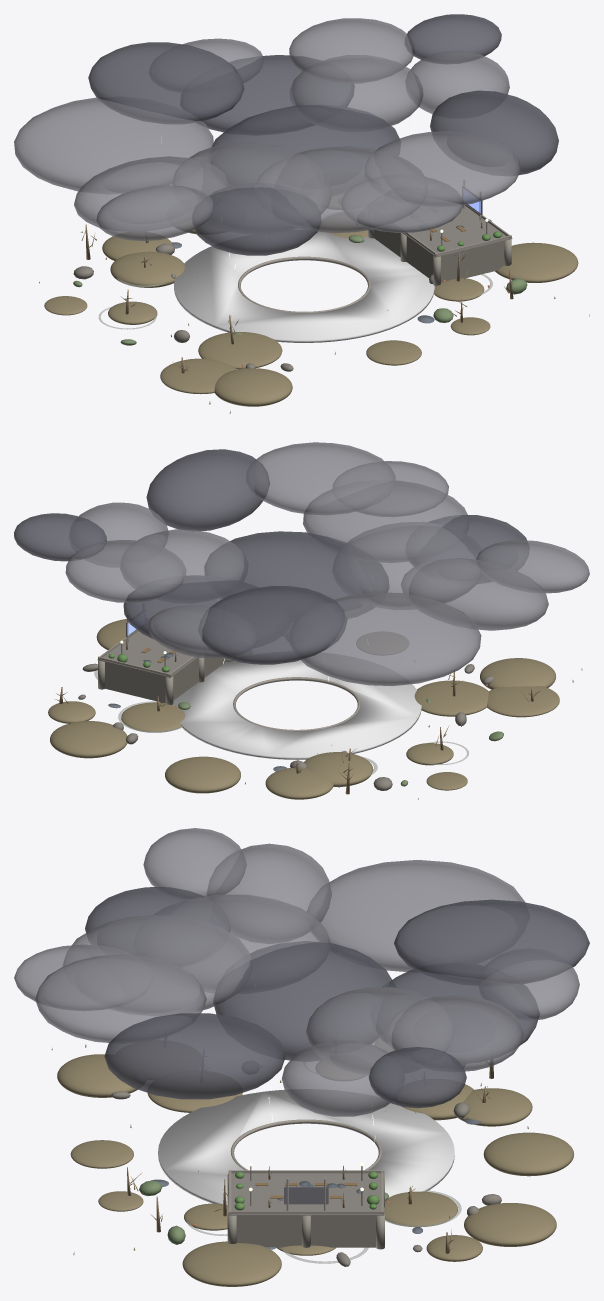
File: Environment_Rainy.glb
The picture shows the model from 3 angles, top to bottom: view 1: azimuth 30°, elevation 25°; view 2: azimuth 150°, elevation 25°; view 3: azimuth 270°, elevation 25°; orthographic projection. The views are drawn at different scales.
Parts seen in each view (by area): view 1: StormShallow, StormCloud_4, StormCloud_10, StormCloud_6, StormCloud_0, StormCloud_2, StormCloud_5, StormCloud_9, StormCloud_1, StormCloud_3, StormCloud_8, StormCloud_12 (+21 smaller); view 2: StormShallow, StormCloud_4, StormCloud_2, StormCloud_10, StormCloud_6, StormCloud_0, StormCloud_5, StormCloud_8, StormCloud_3, StormCloud_1, StormCloud_9, StormCloud_11 (+22 smaller); view 3: StormCloud_4, StormShallow, StormCloud_0, StormCloud_6, StormCloud_2, StormCloud_10, StormCloud_3, StormCloud_5, StormCloud_8, StormCloud_1, StormCloud_11, StormCloud_7 (+22 smaller).
Part boxes in pixels (bbox=[...]): StormShallow: bbox=[174, 231, 434, 342]; StormCloud_4: bbox=[14, 97, 213, 192]; StormCloud_10: bbox=[256, 146, 424, 233]; StormCloud_6: bbox=[88, 42, 244, 123]; StormCloud_0: bbox=[210, 105, 399, 186]; StormCloud_2: bbox=[172, 142, 332, 234]; StormCloud_5: bbox=[364, 131, 520, 206]; StormCloud_9: bbox=[180, 55, 354, 135]; StormCloud_1: bbox=[289, 55, 422, 131]; StormCloud_3: bbox=[430, 90, 558, 174]; StormCloud_8: bbox=[74, 156, 227, 227]; StormCloud_12: bbox=[192, 183, 321, 255]; StormShallow: bbox=[172, 653, 421, 759]; StormCloud_4: bbox=[289, 592, 481, 686]; StormCloud_2: bbox=[332, 522, 482, 607]; StormCloud_10: bbox=[303, 480, 469, 562]; StormCloud_6: bbox=[198, 586, 347, 664]; StormCloud_0: bbox=[204, 531, 389, 611]; StormCloud_5: bbox=[246, 442, 395, 514]; StormCloud_8: bbox=[401, 558, 548, 630]; StormCloud_3: bbox=[146, 449, 269, 530]; StormCloud_1: bbox=[120, 529, 248, 603]; StormCloud_9: bbox=[123, 575, 287, 650]; StormCloud_11: bbox=[65, 540, 185, 602]; StormCloud_4: bbox=[307, 860, 524, 971]; StormShallow: bbox=[158, 1089, 454, 1204]; StormCloud_0: bbox=[213, 941, 395, 1060]; StormCloud_6: bbox=[394, 899, 589, 985]; StormCloud_2: bbox=[143, 894, 330, 993]; StormCloud_10: bbox=[62, 915, 252, 1013]; StormCloud_3: bbox=[104, 1013, 285, 1099]; StormCloud_5: bbox=[35, 954, 206, 1043]; StormCloud_8: bbox=[207, 843, 331, 943]; StormCloud_1: bbox=[306, 987, 453, 1073]; StormCloud_11: bbox=[386, 995, 523, 1071]; StormCloud_7: bbox=[281, 1040, 403, 1116].
Size of what is drawn, in the model's own units: 175 by 65.56 by 155.
